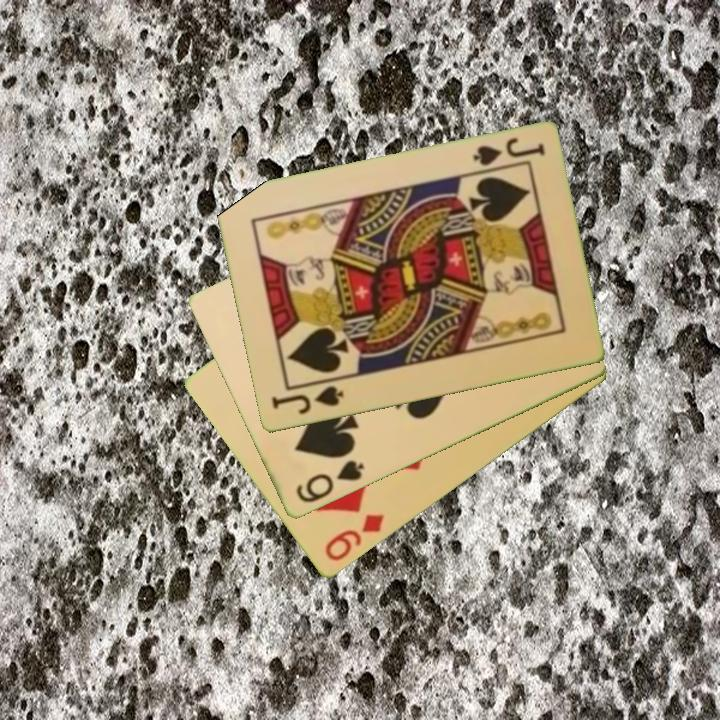6s: (292, 457, 367, 507)
9d: (321, 511, 387, 565)
Js: (468, 134, 548, 170), (268, 382, 347, 418)
